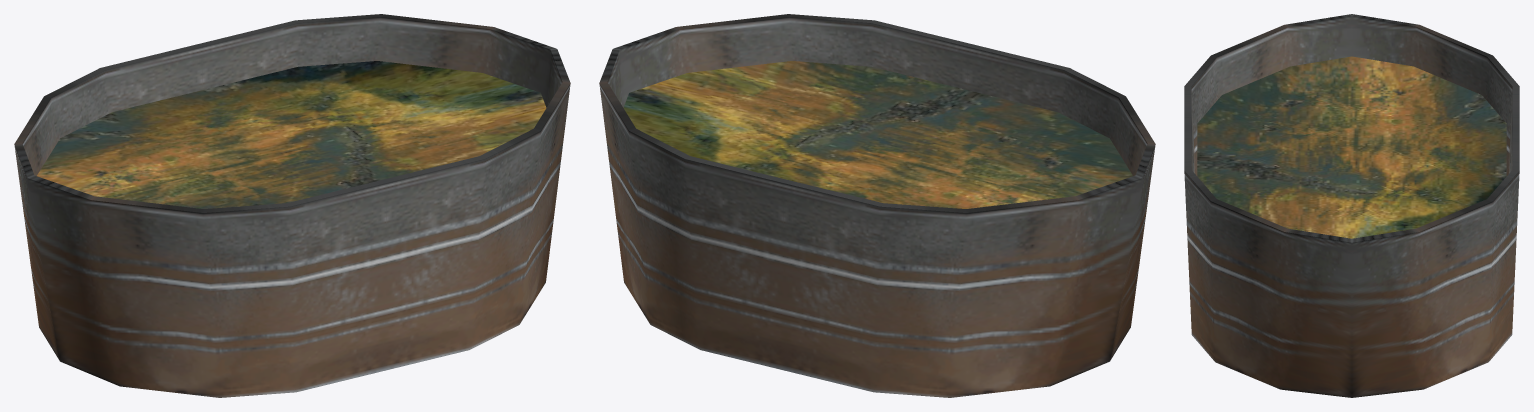
The model's file is washtub.FBX.
The picture shows the model from 3 angles, left to right: view 1: azimuth 30°, elevation 25°; view 2: azimuth 150°, elevation 25°; view 3: azimuth 270°, elevation 25°; orthographic projection. The views are drawn at different scales.
Parts seen in each view (by area): view 1: washtub, acid_bath; view 2: washtub, acid_bath; view 3: washtub, acid_bath.
Boxes of the visible parts, left/top/right/bottom form: washtub: left=14, top=14, right=570, bottom=397; acid_bath: left=37, top=61, right=546, bottom=208; washtub: left=599, top=14, right=1155, bottom=397; acid_bath: left=623, top=61, right=1132, bottom=208; washtub: left=1184, top=14, right=1519, bottom=397; acid_bath: left=1197, top=56, right=1506, bottom=238.
Bounding box in the file's own units: 181 × 63 × 112.
